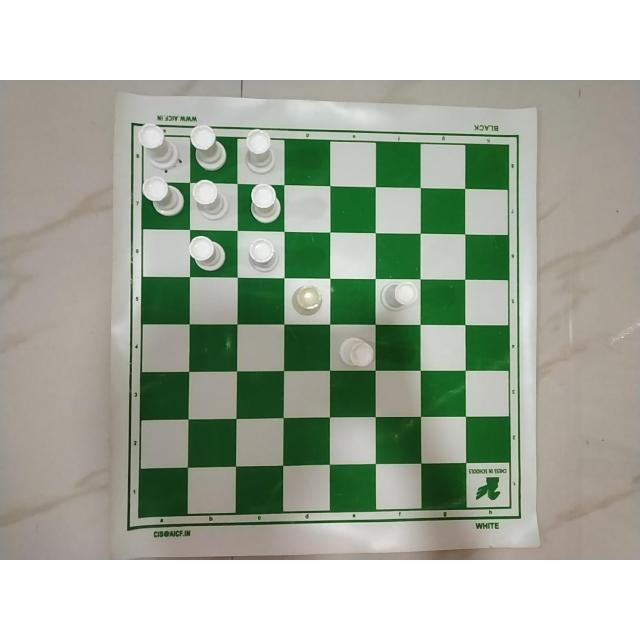white-rook: (137, 175, 187, 219), (187, 122, 229, 173), (135, 121, 179, 168), (241, 126, 277, 174), (187, 234, 229, 274), (331, 332, 375, 370), (247, 179, 283, 224), (193, 177, 229, 221), (377, 279, 417, 317), (246, 236, 282, 276), (288, 281, 324, 318)
